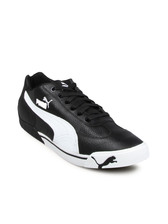shoes: (14, 65, 153, 175)
